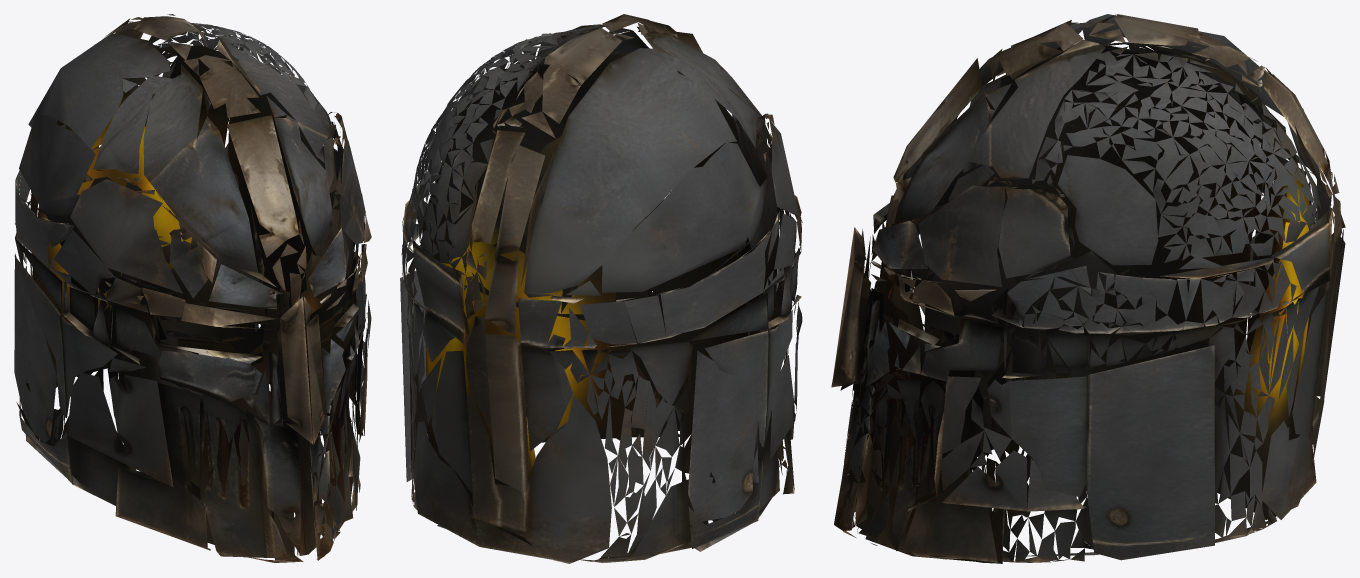
File: Mask_0.fbx
3 views of the same model, side by side, from view 1: azimuth 30°, elevation 25°; view 2: azimuth 150°, elevation 25°; view 3: azimuth 270°, elevation 25° (orthographic). The views are drawn at different scales.
Parts seen in each view (by area): view 1: Mask_0; view 2: Mask_0; view 3: Mask_0.
Boxes of the visible parts, left/top/right/bottom form: Mask_0: left=14, top=14, right=371, bottom=562; Mask_0: left=400, top=14, right=802, bottom=563; Mask_0: left=831, top=14, right=1345, bottom=563.
Size of the model in its own units: 0.1504 by 0.22 by 0.2027.
Materials: 1 (1 with a texture image).
